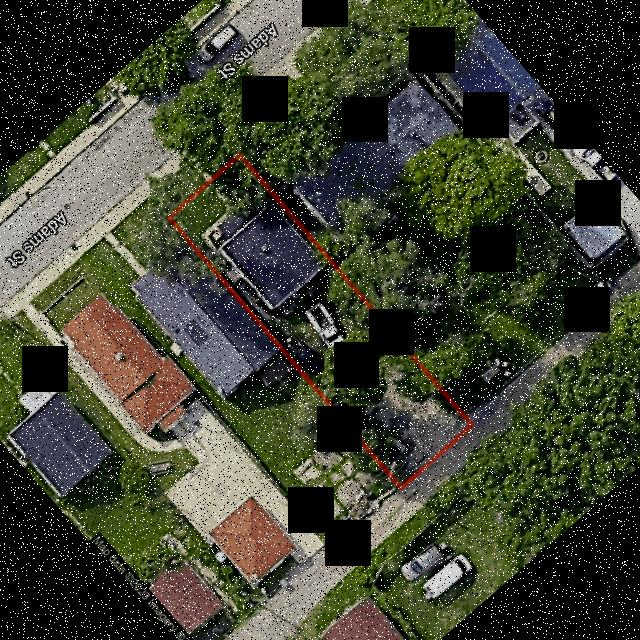Driveway: (200, 180, 237, 252)
Extra Lawn: (147, 158, 204, 212)
House: (218, 206, 322, 308)
